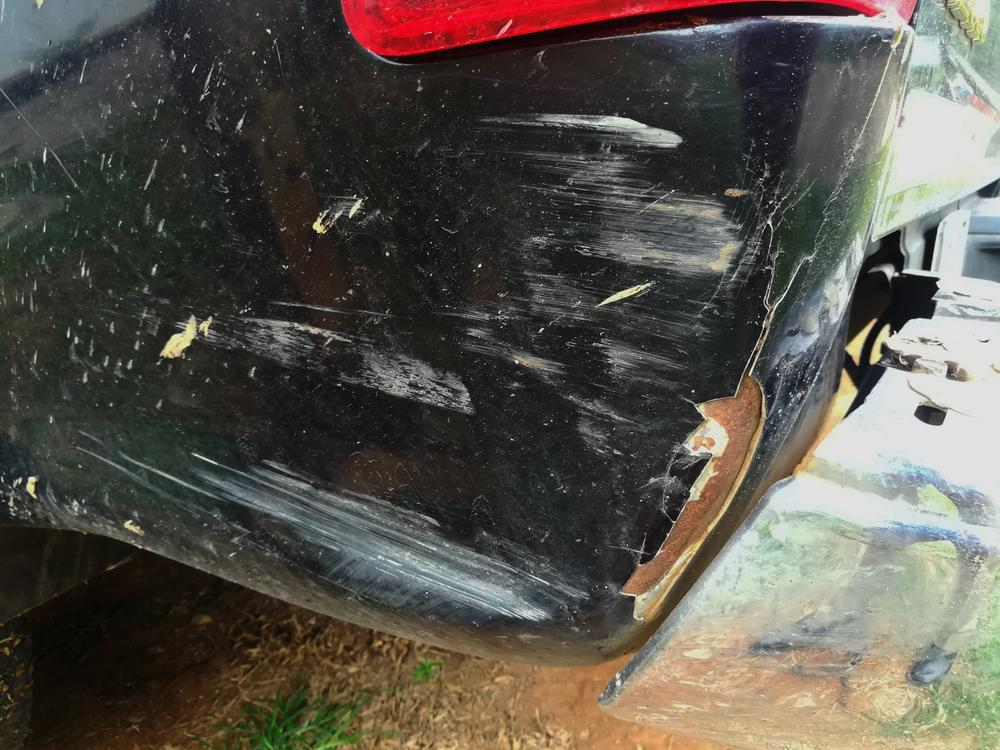crack: (619, 243, 814, 618)
scratch: (112, 85, 762, 465), (58, 429, 599, 628)
